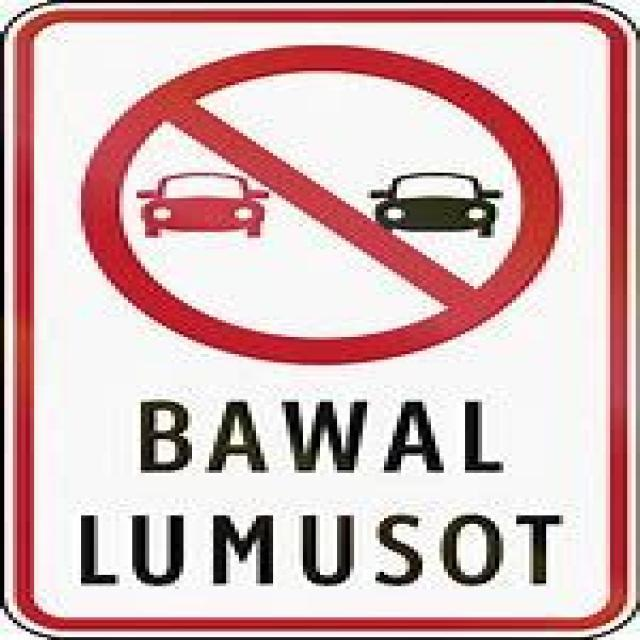overtaking prohibited: (64, 39, 569, 365)
